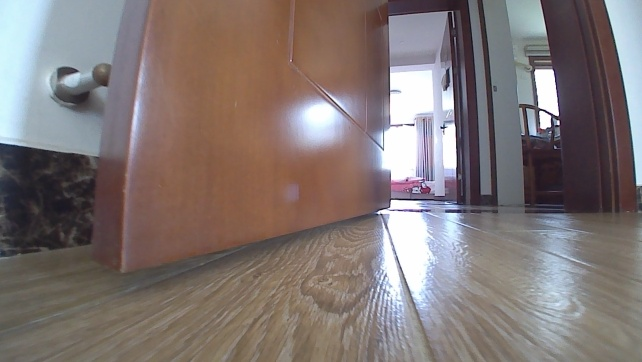bed1: (389, 175, 437, 202)
door_anno: (84, 0, 394, 286)
